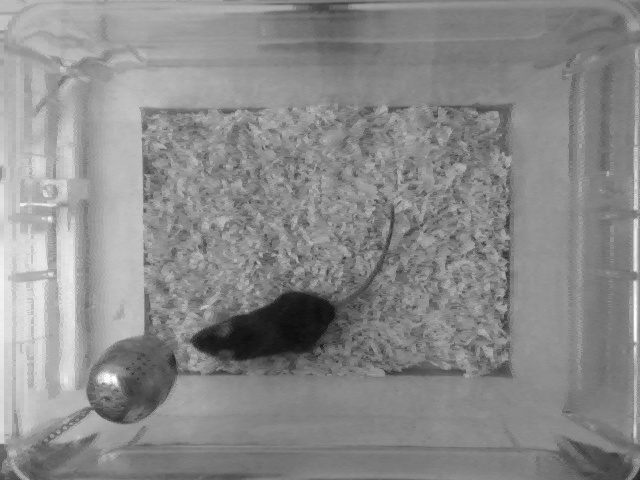mice: (186, 201, 400, 363)
